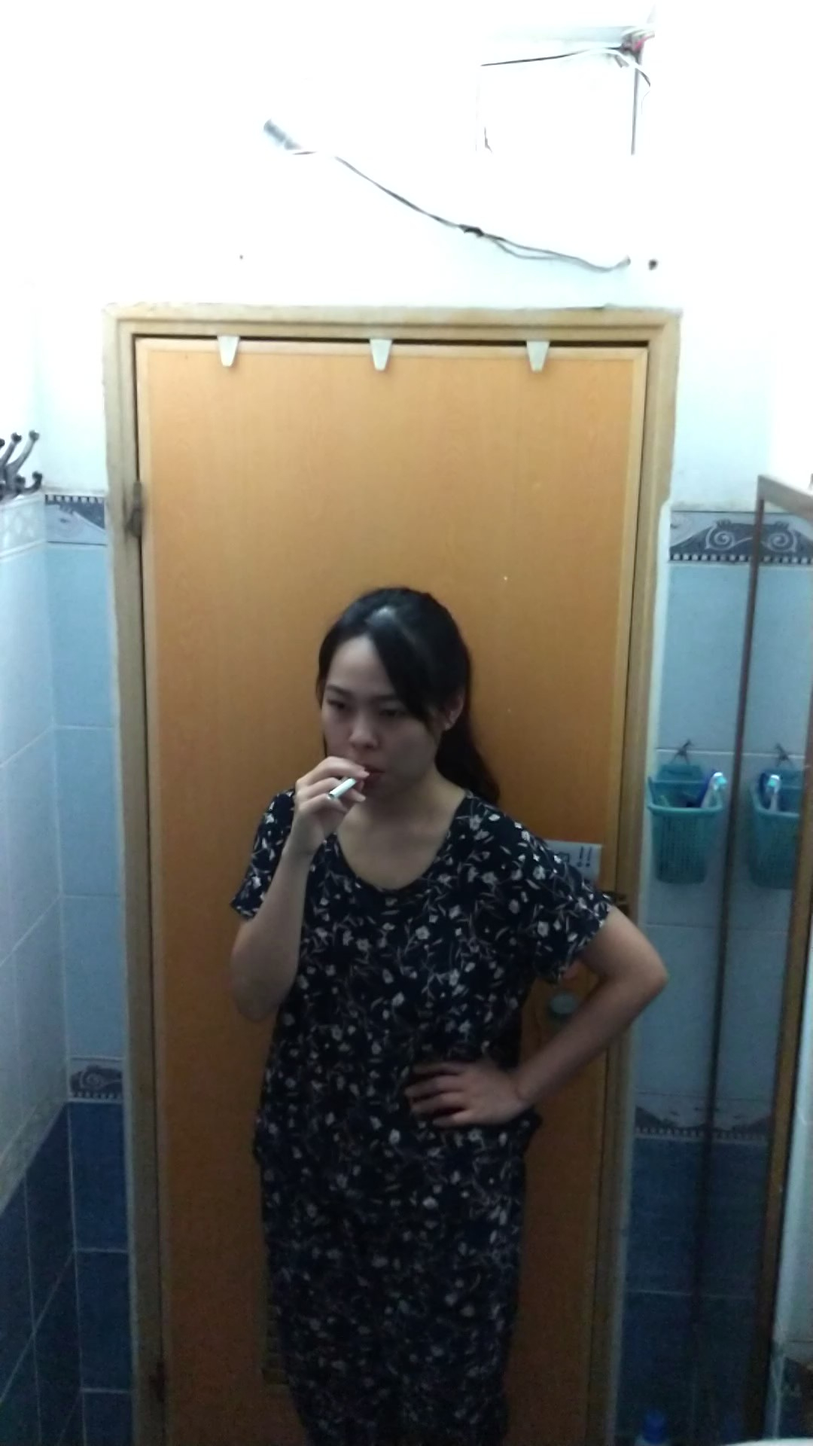cigarette: (324, 776, 359, 806)
person: (222, 582, 655, 1446)
